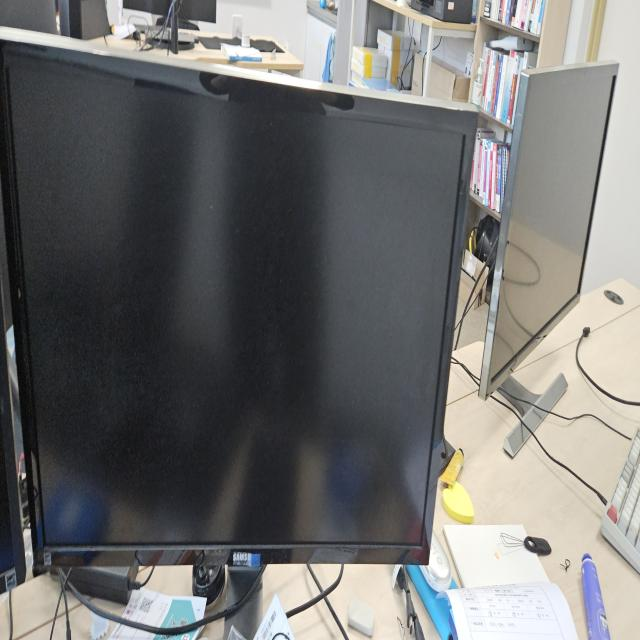Keyboard: (600, 422, 639, 575)
Monitor: (2, 25, 479, 598)
